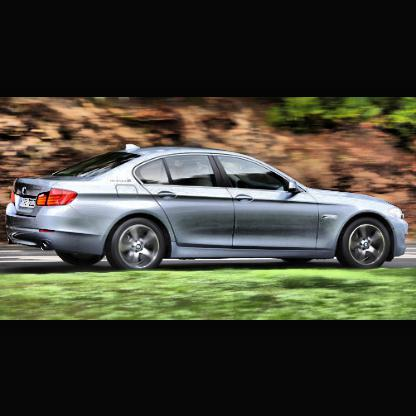BMW ActiveHybrid 5 Sedan 2012: (5, 144, 411, 271)
